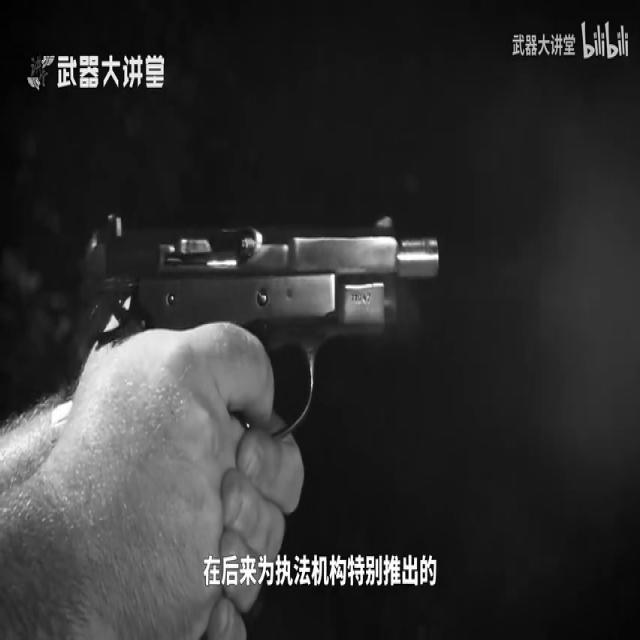Hand-Gun: (78, 188, 452, 439)
